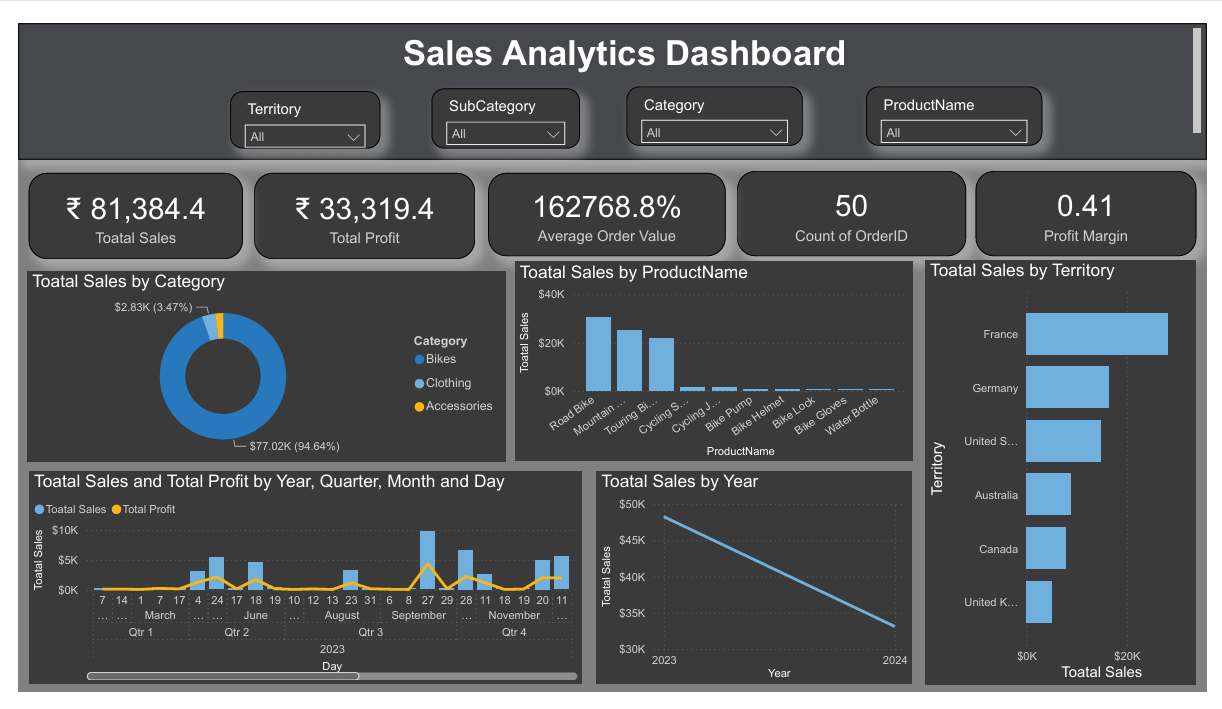

What the dashboard file says about the page in this screenshot:
{"tool":"powerbi","page":{"name":"Page 4","canvas":[1280,720],"ordinal":1},"visuals":[{"type":"textbox","box":[0,0,1280,146.7],"z":0},{"type":"card","fields":{"Values":["Sales Data.Total Profit"]},"box":[254.4,160.5,237.7,93.9],"z":1000},{"type":"card","fields":{"Values":["Sales Data.Toatal Sales"]},"box":[10.6,160.5,231.7,93.9],"z":2000},{"type":"card","fields":{"Values":["Count(Sales Data.OrderID)"]},"box":[773.8,159,246.8,92.4],"z":3000},{"type":"slicer","fields":{"Values":["Sales Data.Territory"]},"box":[228.3,73.3,161.7,61.7],"z":4000},{"type":"slicer","fields":{"Values":["Sales Data.SubCategory"]},"box":[445,70,160,65],"z":5000},{"type":"slicer","fields":{"Values":["Sales Data.Category"]},"box":[655,68.3,190,63.3],"z":6000},{"type":"card","fields":{"Values":["Sales Data.Average Order Value"]},"box":[505.7,160.5,255.9,90.9],"z":7000},{"type":"card","fields":{"Values":["Sales Data.Profit Margin"]},"box":[1031.2,159,237.7,92.4],"z":8000},{"type":"lineChart","fields":{"Category":["Sales Data.OrderDate.Variation.Date Hierarchy.Year","Sales Data.OrderDate.Variation.Date Hierarchy.Quarter","Sales Data.OrderDate.Variation.Date Hierarchy.Month","Sales Data.OrderDate.Variation.Date Hierarchy.Day"],"Y":["Sales Data.Toatal Sales"]},"box":[623.3,483.3,340,228.3],"z":9000},{"type":"lineClusteredColumnComboChart","fields":{"Y2":["Sales Data.Total Profit"],"Y":["Sales Data.Toatal Sales"],"Category":["Sales Data.OrderDate.Variation.Date Hierarchy.Year","Sales Data.OrderDate.Variation.Date Hierarchy.Quarter","Sales Data.OrderDate.Variation.Date Hierarchy.Month","Sales Data.OrderDate.Variation.Date Hierarchy.Day"]},"box":[11.7,483.3,595,228.3],"z":10000},{"type":"clusteredBarChart","fields":{"Category":["Sales Data.Territory"],"Y":["Sales Data.Toatal Sales"]},"box":[976.7,255,291.7,456.7],"z":11000},{"type":"donutChart","fields":{"Y":["Sales Data.Toatal Sales"],"Category":["Sales Data.Category"]},"box":[10,266.7,515,205],"z":12000},{"type":"columnChart","fields":{"Category":["Sales Data.ProductName"],"Y":["Sales Data.Toatal Sales"]},"box":[535,256.7,428.3,215],"z":13000},{"type":"slicer","fields":{"Values":["Sales Data.ProductName"]},"box":[913.3,68.3,190,63.3],"z":14001}]}

Visuals, with their boxes on the page's 1280x720 design canvas (x1, y1, x2, y2). These are canvas units, not pixel positions in the 1222x709 screenshot, which may show the page scaled, cropped or inside an application window:
textbox: [left=0, top=0, right=1280, bottom=147]
card - Sales Data.Total Profit: [left=254, top=160, right=492, bottom=254]
card - Sales Data.Toatal Sales: [left=11, top=160, right=242, bottom=254]
card - Count(Sales Data.OrderID): [left=774, top=159, right=1021, bottom=251]
slicer - Sales Data.Territory: [left=228, top=73, right=390, bottom=135]
slicer - Sales Data.SubCategory: [left=445, top=70, right=605, bottom=135]
slicer - Sales Data.Category: [left=655, top=68, right=845, bottom=132]
card - Sales Data.Average Order Value: [left=506, top=160, right=762, bottom=251]
card - Sales Data.Profit Margin: [left=1031, top=159, right=1269, bottom=251]
lineChart - Sales Data.OrderDate.Variation.Date Hierarchy.Year x Sales Data.OrderDate.Variation.Date Hierarchy.Quarter: [left=623, top=483, right=963, bottom=712]
lineClusteredColumnComboChart - Sales Data.Total Profit x Sales Data.Toatal Sales: [left=12, top=483, right=607, bottom=712]
clusteredBarChart - Sales Data.Territory x Sales Data.Toatal Sales: [left=977, top=255, right=1268, bottom=712]
donutChart - Sales Data.Toatal Sales x Sales Data.Category: [left=10, top=267, right=525, bottom=472]
columnChart - Sales Data.ProductName x Sales Data.Toatal Sales: [left=535, top=257, right=963, bottom=472]
slicer - Sales Data.ProductName: [left=913, top=68, right=1103, bottom=132]
